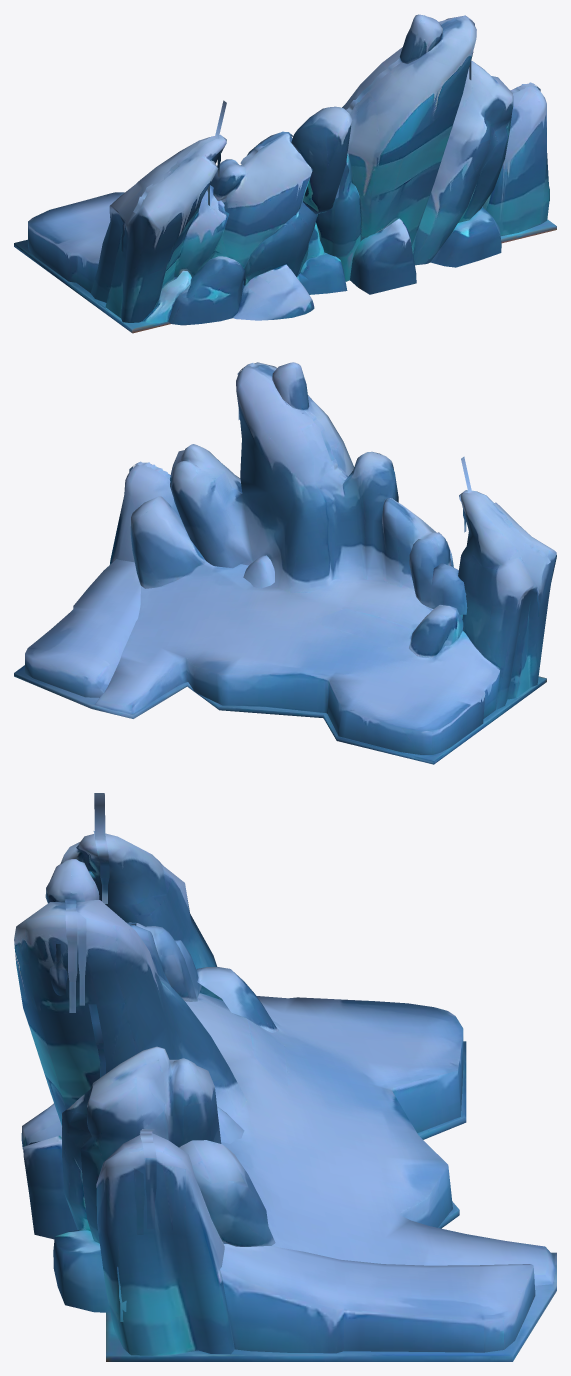
The model's file is SM_Tripo_FrostIceHoleRim.glb.
The picture shows the model from 3 angles, top to bottom: view 1: azimuth 30°, elevation 25°; view 2: azimuth 150°, elevation 25°; view 3: azimuth 270°, elevation 25°; orthographic projection. The views are drawn at different scales.
Visible parts, largest first — view 1: SM_Tripo_FrostIceHoleRim_LOD0; view 2: SM_Tripo_FrostIceHoleRim_LOD0; view 3: SM_Tripo_FrostIceHoleRim_LOD0.
Boxes of the visible parts, x1,y1,x2,y2 form: SM_Tripo_FrostIceHoleRim_LOD0: (14, 14, 556, 333); SM_Tripo_FrostIceHoleRim_LOD0: (14, 362, 556, 764); SM_Tripo_FrostIceHoleRim_LOD0: (14, 793, 556, 1361).
Bounding box in the file's own units: 3.79 × 2.2 × 2.76.
1 material, 1 textured.
